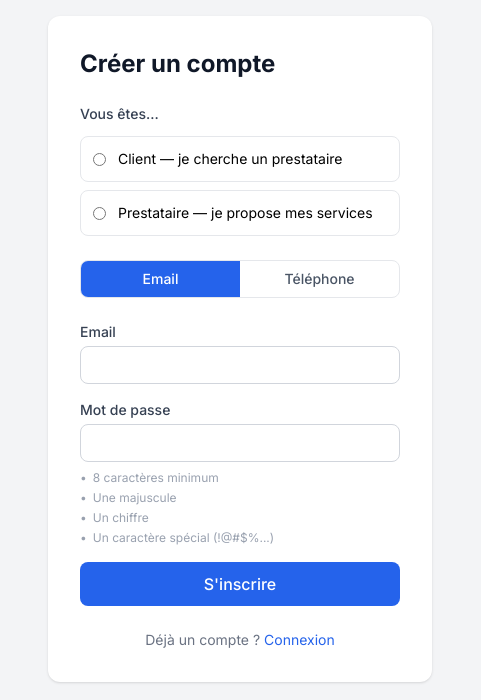
Test case: shows prestataire step 2 after successful email registration
Click the text "Prestataire — je propose mes services" at (240, 213), box top-left (80, 190), bottom-right (400, 236)
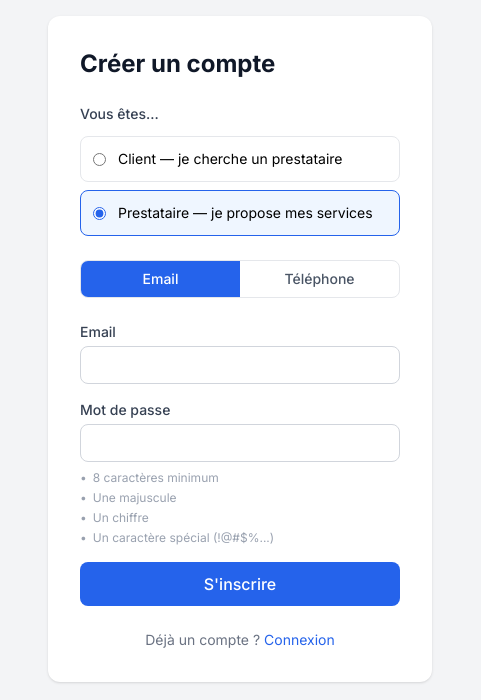
Type "test@test.com" into the field labelled "Email" at (240, 365), box top-left (80, 346), bottom-right (400, 384)
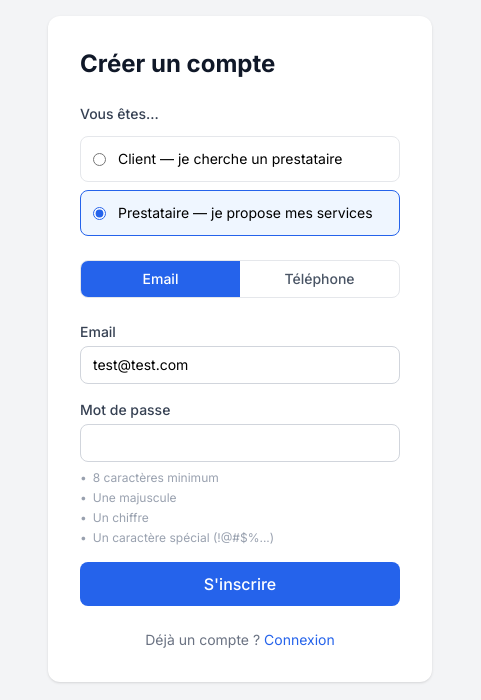
Type "Test1234!" into the password field labelled "Mot de passe" at (240, 443), box top-left (80, 424), bottom-right (400, 462)
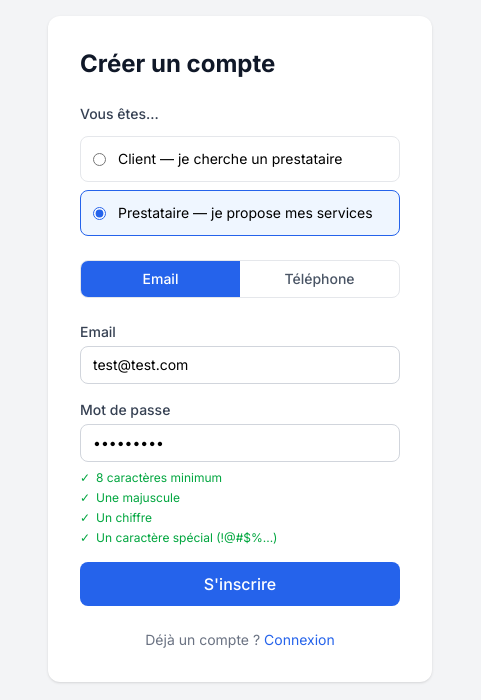
Click the button "S'inscrire" at (240, 584), box top-left (80, 562), bottom-right (400, 606)
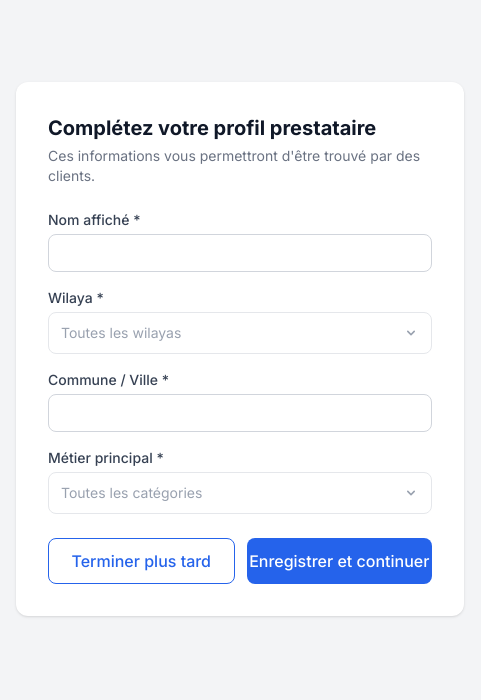
Expected: the heading "Complétez votre profil prestataire" is shown, top-left (48, 114), bottom-right (432, 142)
